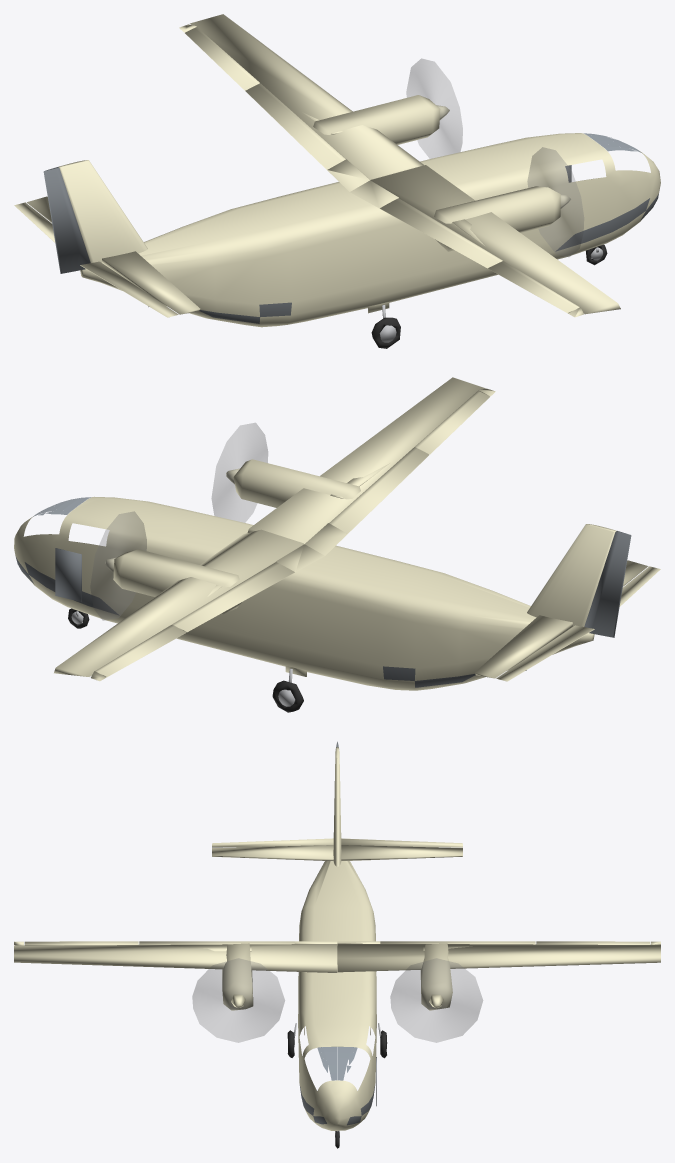
File: haulmaster_lod2.glb
The picture shows the model from 3 angles, top to bottom: view 1: azimuth 30°, elevation 25°; view 2: azimuth 150°, elevation 25°; view 3: azimuth 270°, elevation 25°; orthographic projection. The views are drawn at different scales.
Parts seen in each view (by area): view 1: fuselage, wing_L, wing_R, fin, nacelle_1, nacelle_2, prop_2_disc, prop_1_disc, stabilizer, rudder, flap_L_1, flap_R_1 (+4 smaller); view 2: fuselage, wing_R, wing_L, fin, nacelle_1, prop_1_disc, nacelle_2, prop_2_disc, stabilizer, rudder, flap_R_1, flap_L_1 (+5 smaller); view 3: fuselage, wing_L, wing_R, prop_2_disc, prop_1_disc, stabilizer, nacelle_1, nacelle_2, elevator, glass, fin, flap_R_1.
Boxes of the visible parts, x1,y1,x2,y2 form: fuselage: (80,133,660,327); wing_L: (179,14,423,191); wing_R: (350,165,620,317); fin: (58,160,147,262); nacelle_1: (313,95,440,144); nacelle_2: (434,186,560,251); prop_2_disc: (527,147,583,256); prop_1_disc: (406,58,462,158); stabilizer: (27,196,200,314); rudder: (43,167,90,273); flap_L_1: (245,83,345,169); flap_R_1: (380,198,502,268); fuselage: (14,496,594,690); wing_R: (247,377,495,555); wing_L: (54,529,324,681); fin: (527,524,616,626); nacelle_1: (113,549,241,614); prop_1_disc: (90,511,146,620); nacelle_2: (233,459,360,507); prop_2_disc: (211,423,267,522); stabilizer: (474,560,648,678); rudder: (584,531,631,637); flap_R_1: (329,447,429,533); flap_L_1: (172,562,294,632); fuselage: (298,861,376,1130); wing_L: (337,941,660,972); wing_R: (14,941,337,972); prop_2_disc: (192,958,284,1042); prop_1_disc: (390,958,482,1042); stabilizer: (212,845,462,860); nacelle_1: (420,943,452,1010); nacelle_2: (222,943,253,1010); elevator: (212,838,462,847); glass: (317,1046,357,1080); fin: (333,747,341,866); flap_R_1: (139,941,294,944).
Bounding box in the file's own units: 17.6 × 6.39 × 19.6.
